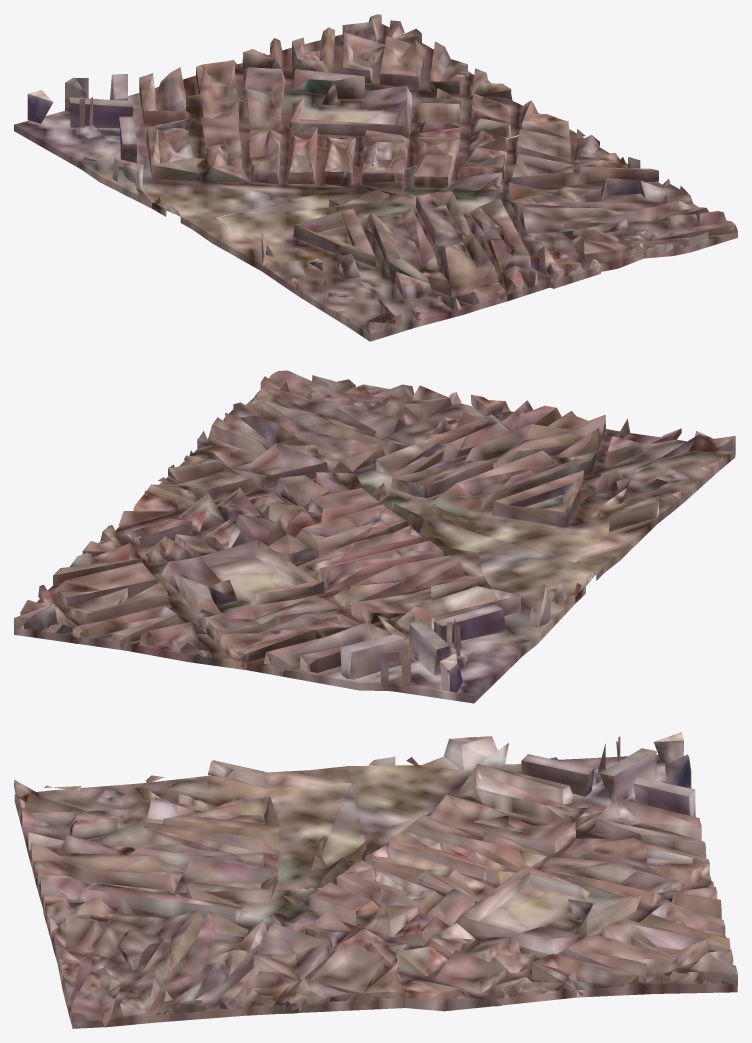
3 views of the same model, one above another, from view 1: azimuth 30°, elevation 25°; view 2: azimuth 150°, elevation 25°; view 3: azimuth 270°, elevation 25° (orthographic). The views are drawn at different scales.
Visible parts, largest first — view 1: Mesh_0; view 2: Mesh_0; view 3: Mesh_0.
Boxes of the visible parts, x1,y1,x2,y2 form: Mesh_0: [14, 14, 737, 341]; Mesh_0: [14, 370, 735, 703]; Mesh_0: [14, 732, 737, 1028].
Bounding box in the file's own units: 533 × 68.19 × 660.
Materials: 2 (2 with a texture image).
